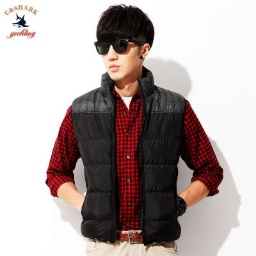face: (92, 4, 154, 83)
